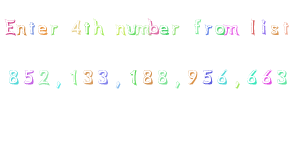,: (233, 78, 245, 93), (113, 80, 125, 92), (173, 78, 183, 91), (56, 78, 64, 91)
1: (69, 65, 81, 88), (129, 67, 141, 88)
2: (39, 67, 52, 88)
3: (95, 67, 111, 88), (80, 66, 95, 85), (275, 66, 289, 86)
4: (70, 16, 81, 41)
5: (201, 66, 215, 89), (23, 68, 37, 88)
6: (217, 66, 231, 88), (260, 67, 275, 87), (245, 67, 260, 86)
8: (156, 65, 171, 89), (7, 67, 21, 88), (142, 67, 156, 88)
9: (185, 65, 200, 88)
E: (2, 15, 17, 41)
b: (148, 16, 158, 37)
e: (37, 22, 49, 38), (159, 23, 170, 38)
f: (190, 15, 204, 39)
h: (93, 16, 108, 39)
i: (260, 16, 269, 40)
l: (246, 17, 258, 38)
m: (224, 19, 241, 40), (135, 22, 150, 39)
n: (112, 21, 127, 39), (16, 20, 28, 38)
o: (214, 22, 226, 37)
r: (172, 17, 183, 40), (51, 22, 60, 39), (203, 22, 213, 37)
s: (271, 23, 282, 39)
t: (82, 19, 92, 39), (28, 19, 38, 38), (282, 17, 292, 36)
u: (126, 19, 137, 38)
